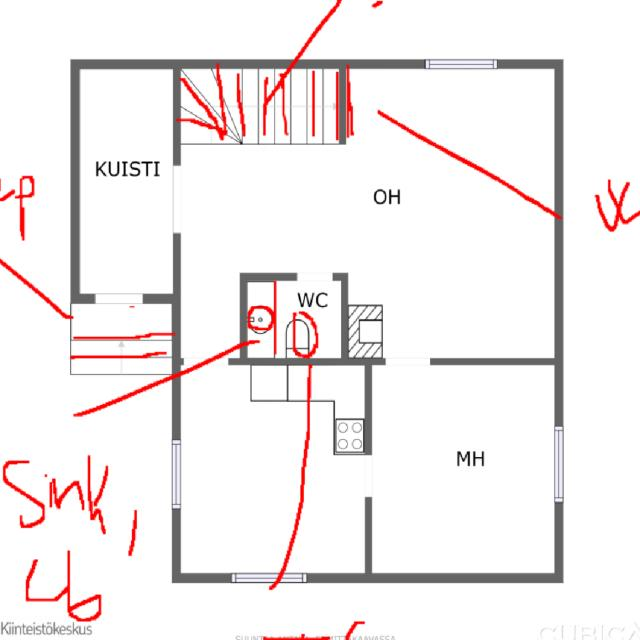door: (209, 306, 248, 338)
